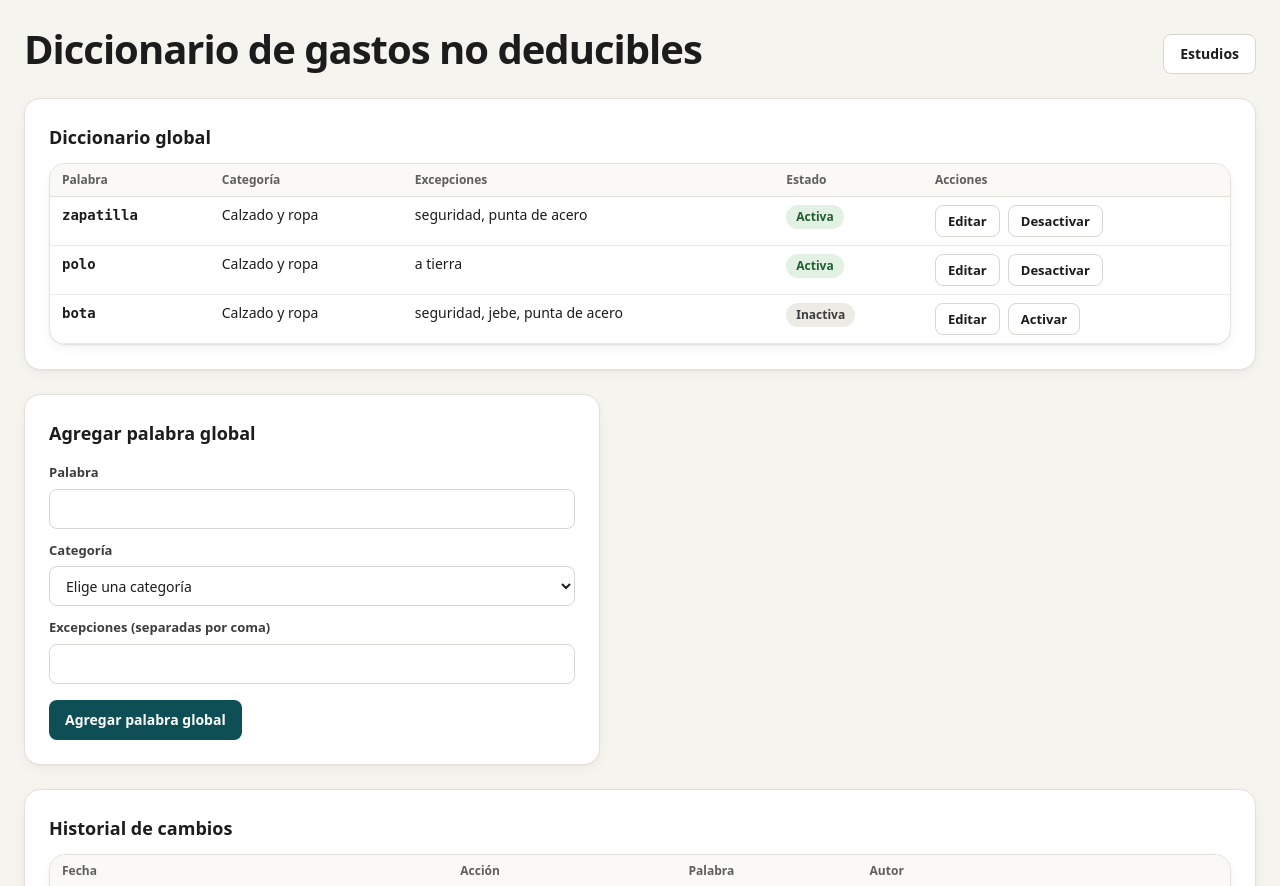
Scenario: /admin/diccionario · agregar › rechaza una palabra de menos de 3 letras en el formulario, sin petición
The width and height of the screenshot is (1280, 886).
Step 1. Type "ab" into the field labelled "Palabra" → point(312, 508), box [49, 488, 575, 528]
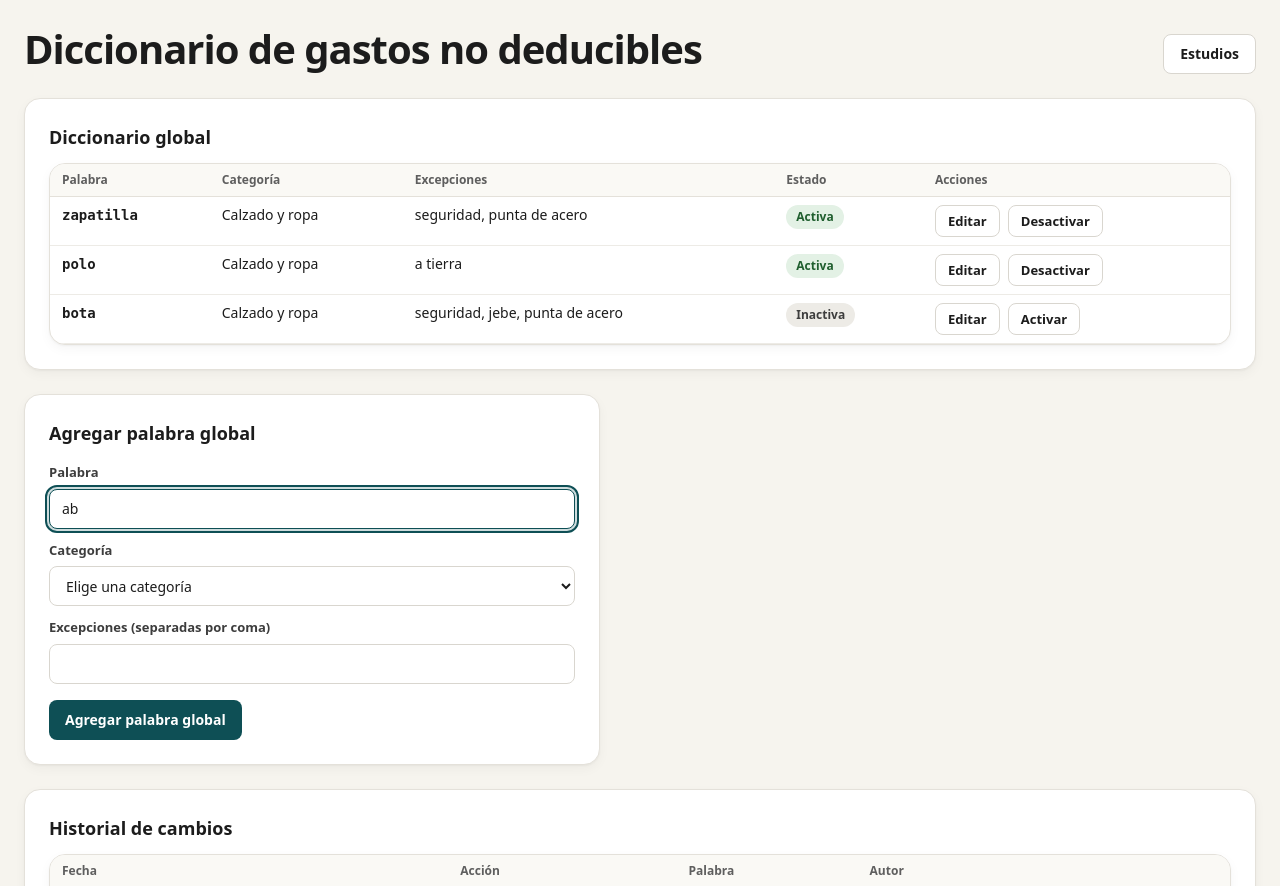
Step 2. Select "Juguetes" in the dropdown labelled "Categoría" → point(312, 586), box [49, 566, 575, 606]
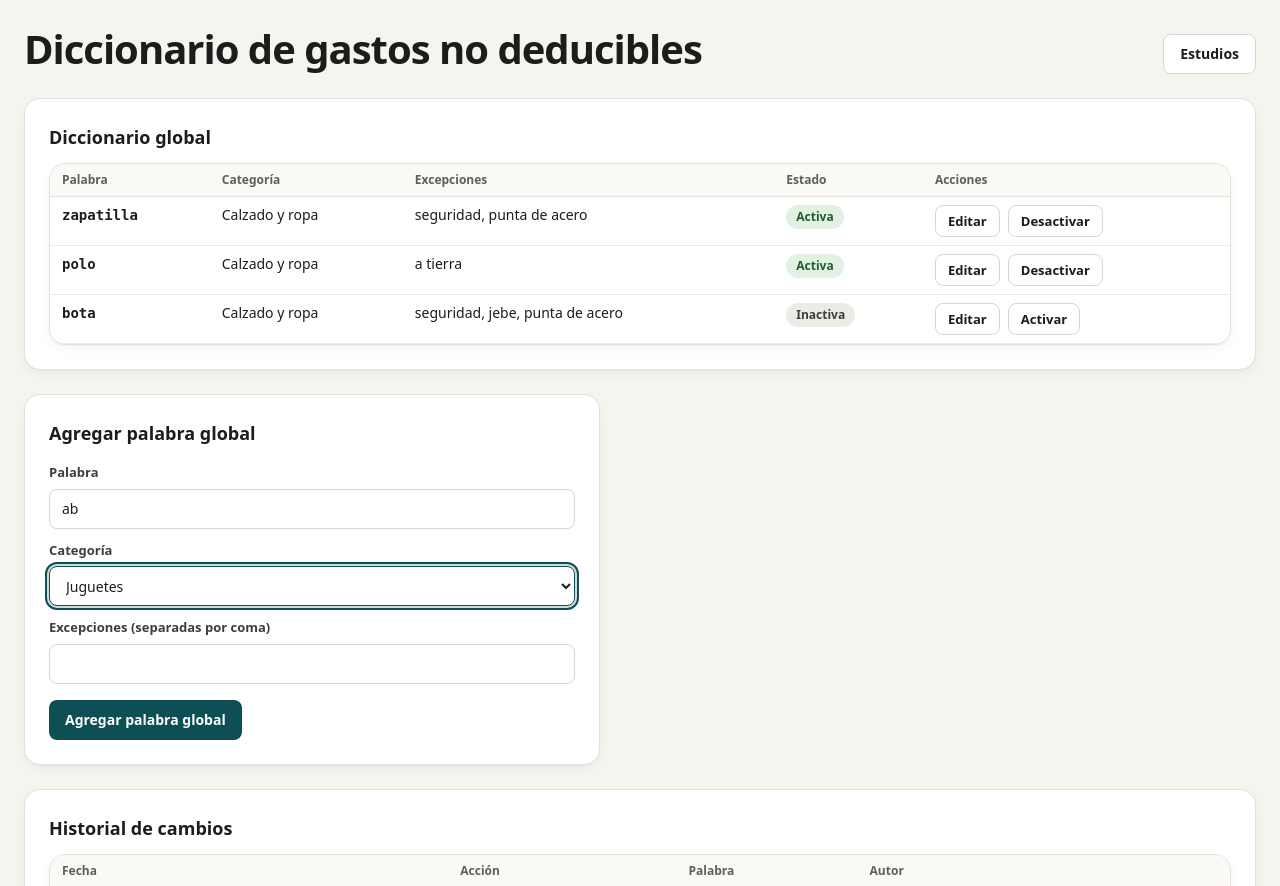
Step 3. Click the button "Agregar palabra global" → point(145, 720), box [49, 700, 242, 740]
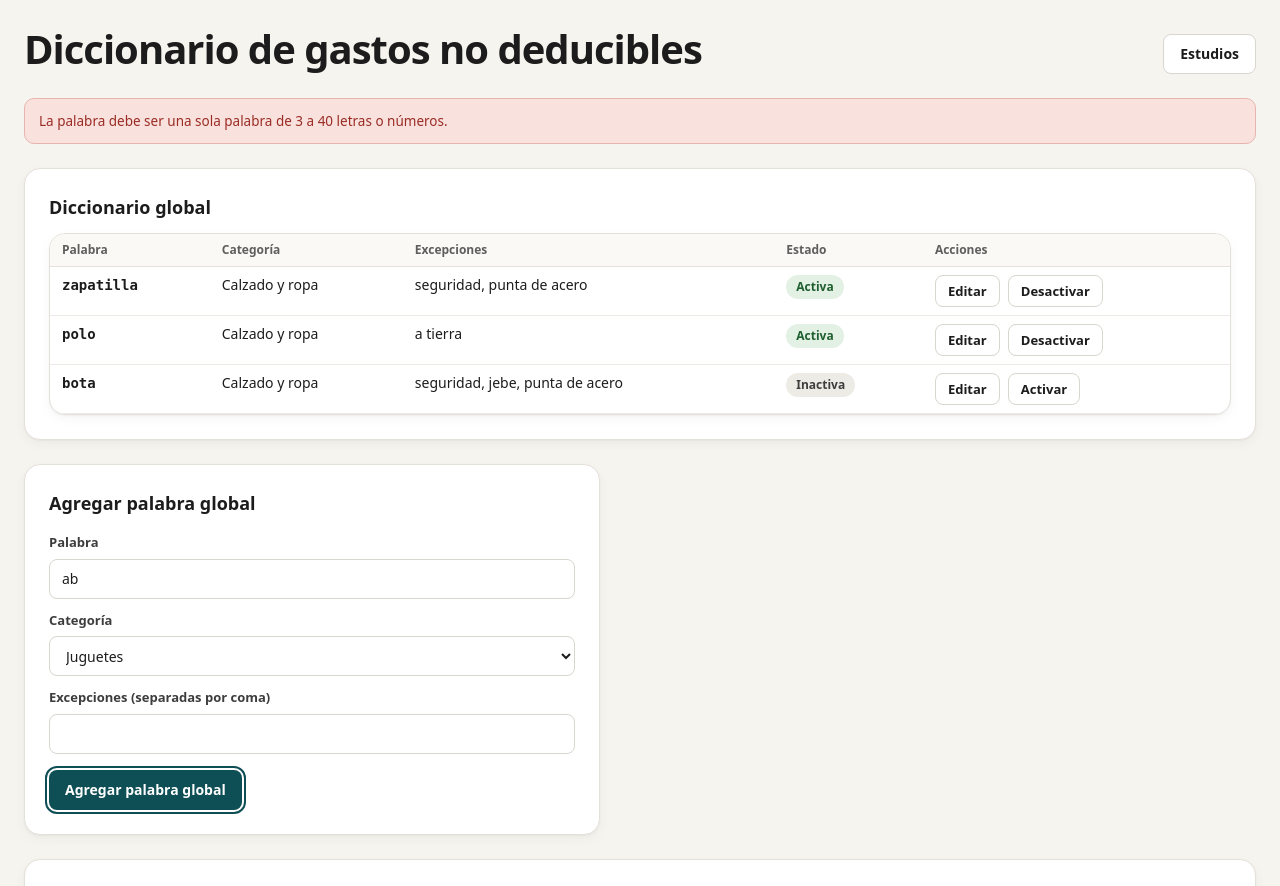
Check: the message reads "La palabra debe ser una sola palabra de 3 a 40 letras o números.", box [39, 112, 448, 130]
